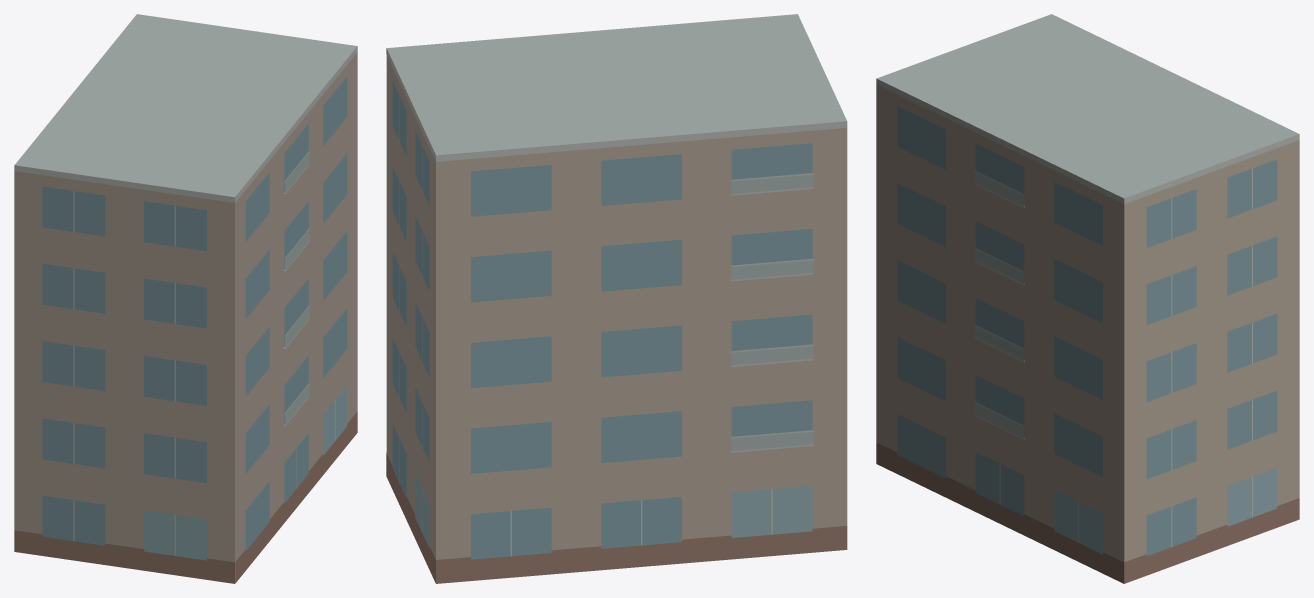
Rendered from survey-upis-32533555.glb.
3 renders of one model, left to right at view 1: azimuth 30°, elevation 25°; view 2: azimuth 150°, elevation 25°; view 3: azimuth 270°, elevation 25°, orthographic. The views are drawn at different scales.
Visible parts, largest first — view 1: survey-upis-32533555.tmp; view 2: survey-upis-32533555.tmp; view 3: survey-upis-32533555.tmp.
Boxes of the visible parts, x1=… form: survey-upis-32533555.tmp: x1=14, y1=14, x2=357, y2=583; survey-upis-32533555.tmp: x1=386, y1=14, x2=847, y2=583; survey-upis-32533555.tmp: x1=876, y1=14, x2=1299, y2=583.
Size of the model in its own units: 16.54 by 16.1 by 16.03.
